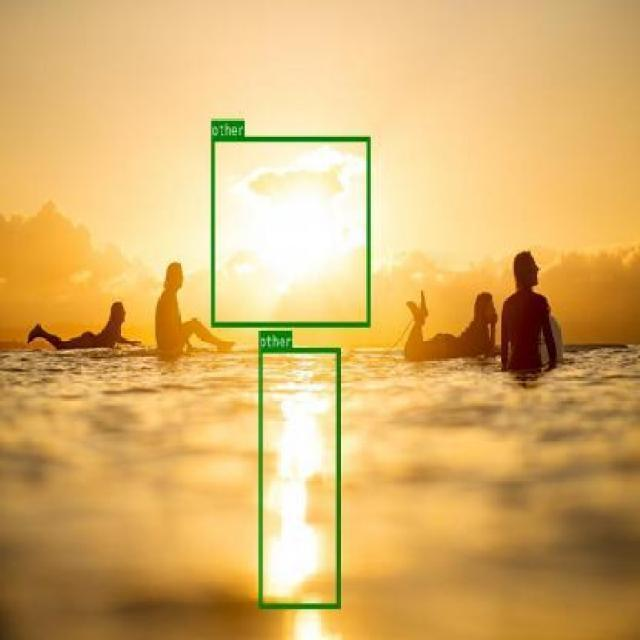Smoke: (210, 137, 370, 326), (258, 348, 340, 608)
